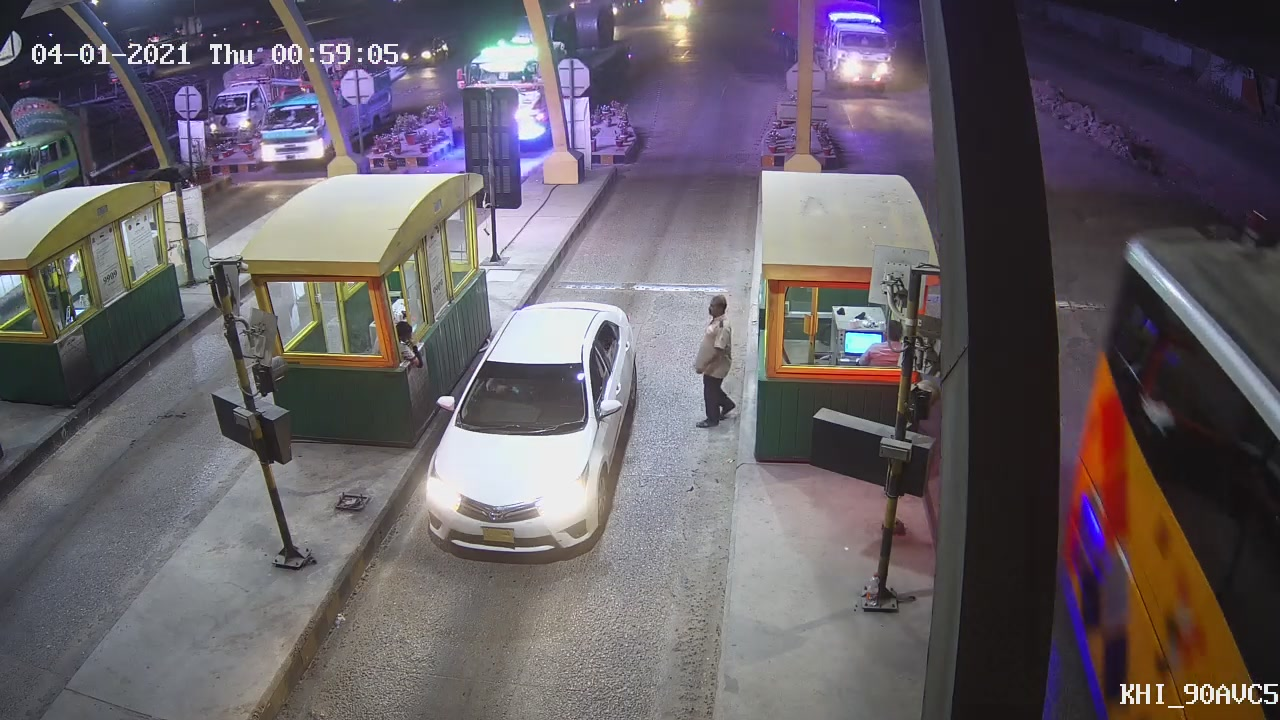F1: (383, 293, 661, 575)
